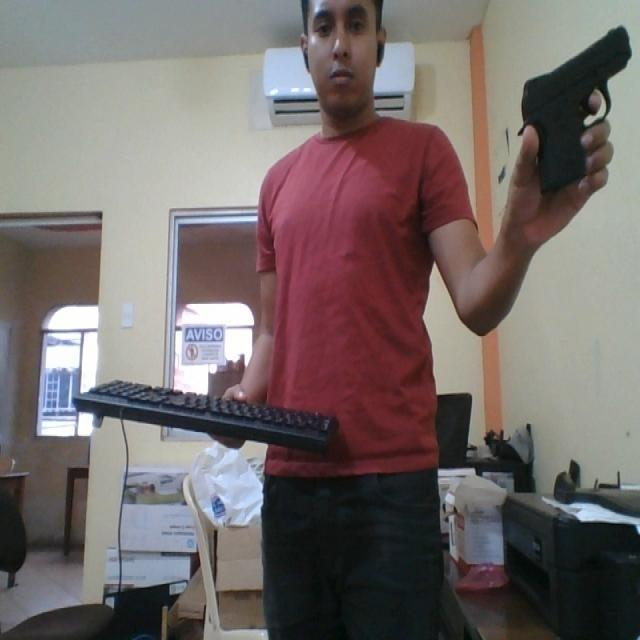weapon: (516, 22, 632, 194)
